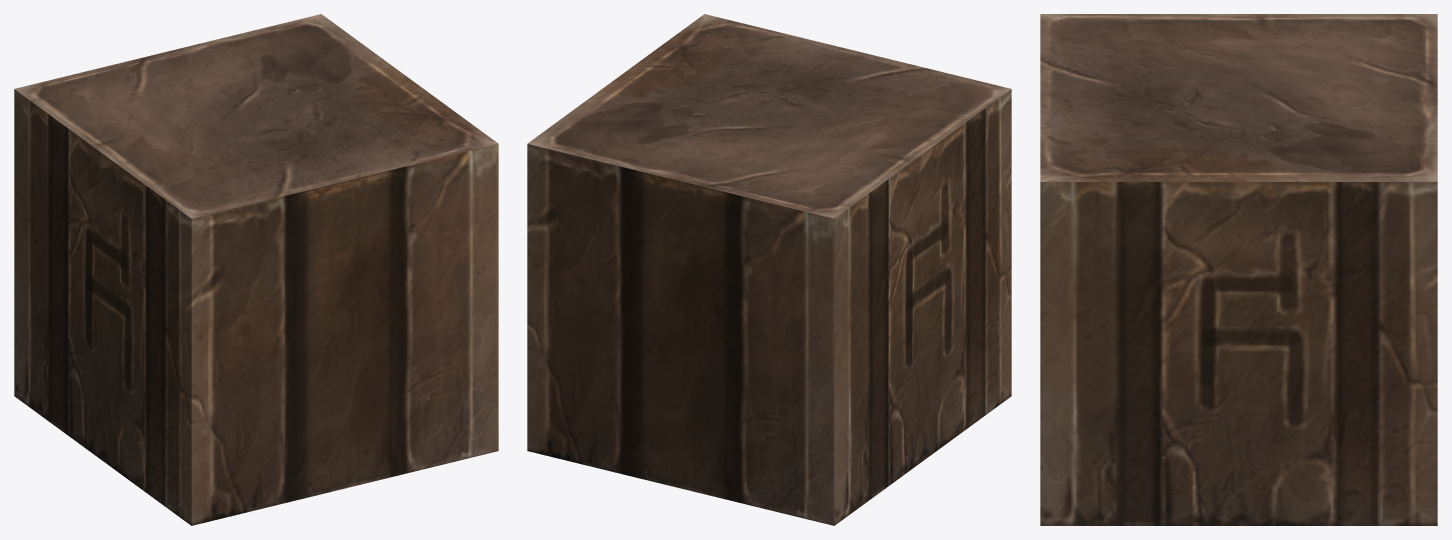
The model's file is D_shizhu002.fbx.
The picture shows the model from 3 angles, left to right: view 1: azimuth 30°, elevation 25°; view 2: azimuth 150°, elevation 25°; view 3: azimuth 270°, elevation 25°; orthographic projection. The views are drawn at different scales.
Visible parts, largest first — view 1: D_shizhu002; view 2: D_shizhu002; view 3: D_shizhu002.
Boxes of the visible parts, x1,y1,x2,y2 form: D_shizhu002: [14, 14, 498, 525]; D_shizhu002: [527, 14, 1011, 525]; D_shizhu002: [1040, 14, 1437, 525].
Bounding box in the file's own units: 93.34 × 89.2 × 93.34.
